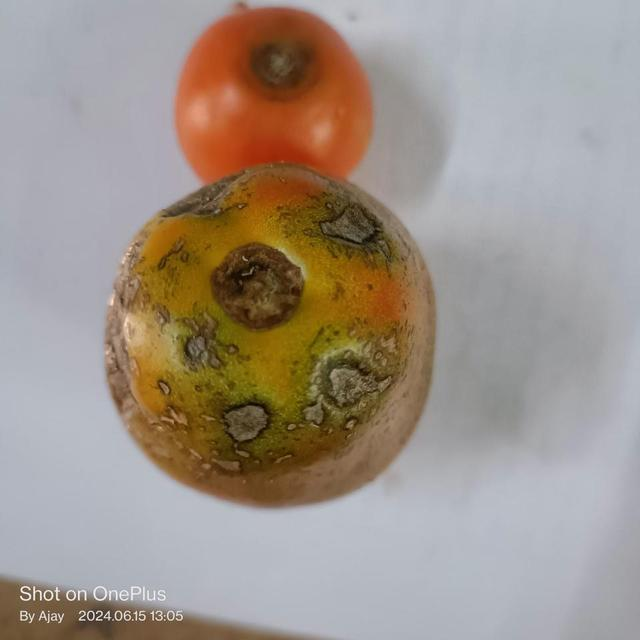Bacterial Spot Fruit: (3, 5, 236, 310)
